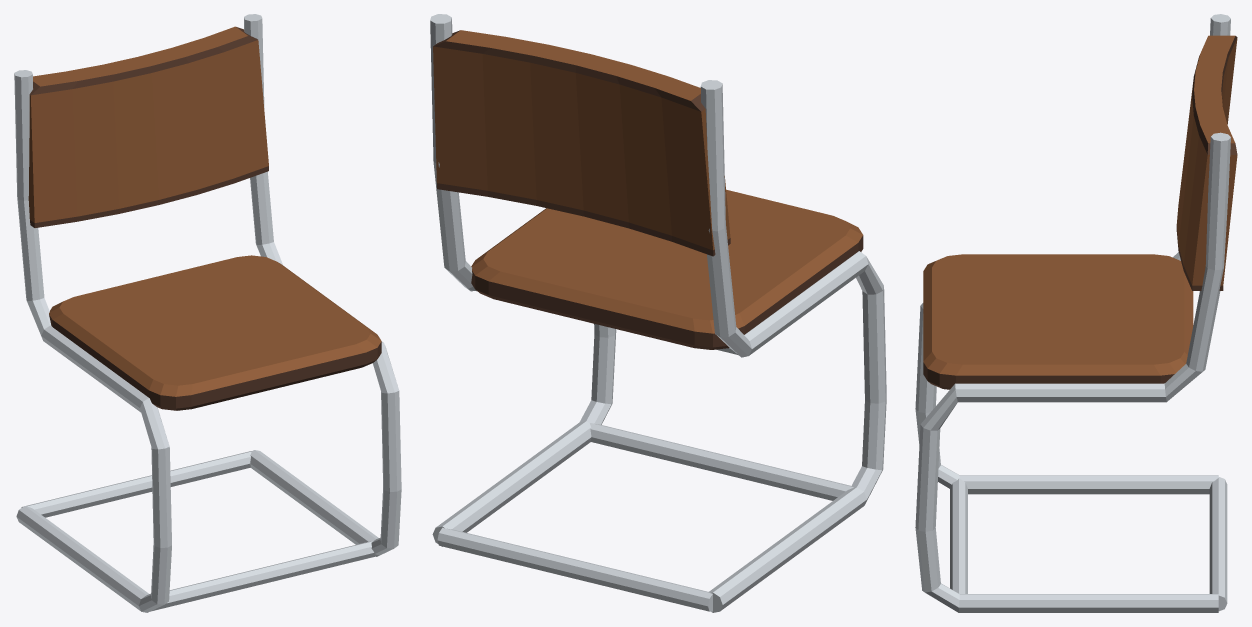
File: FN_Chair_Visitor.glb
3 views of the same model, side by side, from view 1: azimuth 30°, elevation 25°; view 2: azimuth 150°, elevation 25°; view 3: azimuth 270°, elevation 25° (orthographic). The views are drawn at different scales.
Visible parts, largest first — view 1: FN_Chair_Visitor; view 2: FN_Chair_Visitor; view 3: FN_Chair_Visitor.
Part boxes in pixels (x1,y1,x2,y2): FN_Chair_Visitor: (14, 14, 401, 612); FN_Chair_Visitor: (430, 14, 886, 612); FN_Chair_Visitor: (915, 14, 1237, 612).
Bounding box in the file's own units: 0.504 × 0.8787 × 0.5388.
1 material, 1 textured.
